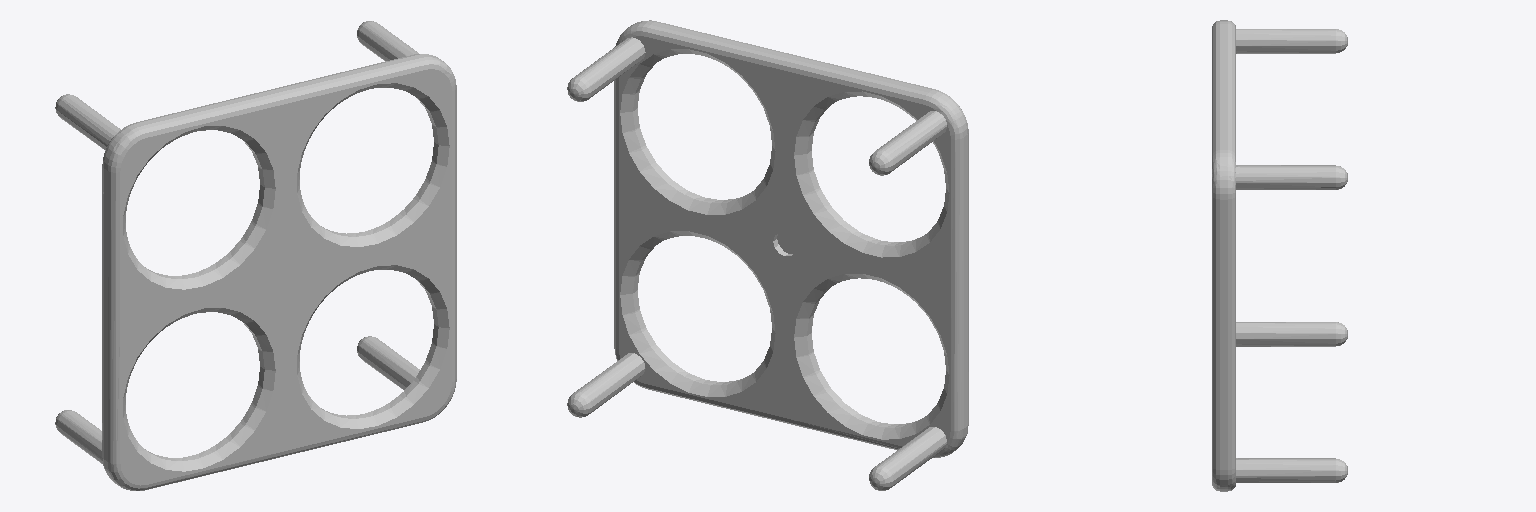
The robot description file, URDF, robot "flat_drone":
<?xml version="1.0" encoding="utf-8"?>
<!-- This URDF was automatically created by SolidWorks to URDF Exporter! Originally created by [author] ([email redacted]) 
     Commit Version: 1.6.0-1-g15f4949  Build Version: 1.6.7594.29634
     For more information, please see http://wiki.ros.org/sw_urdf_exporter -->
<robot
  name="flat_drone">
  <link name="dummy_link"></link>
    <joint
      name="dummy_joint"
      type="fixed">
      <origin
        xyz="0 0 0"
        rpy="0 0 0" />
      <parent
        link="dummy_link" />
      <child
        link="chassis" />
    </joint>
  <link
    name="chassis">
    <inertial>
      <origin
        xyz="0.158252280467528 0.18037620453903 0.219588795554135"
        rpy="0 0 0" />
      <mass
        value="0.894063156436566" />
      <inertia
        ixx="0.00864147938306697"
        ixy="-2.12588363777296E-11"
        ixz="1.45183918634266E-15"
        iyy="0.00864147950443815"
        iyz="1.29740786190204E-15"
        izz="0.0165526190624553" />
    </inertial>
    <visual>
      <origin
        xyz="0 0 0"
        rpy="0 0 0" />
      <geometry>
        <mesh
          filename="package://flat_drone/meshes/chassis.STL" />
      </geometry>
      <material
        name="">
        <color
          rgba="0.8 0.8 0.8 1" />
      </material>
    </visual>
    <collision>
      <origin
        xyz="0 0 0"
        rpy="0 0 0" />
      <geometry>
        <mesh
          filename="package://flat_drone/meshes/chassis.STL" />
      </geometry>
    </collision>
  </link>
  <!-- <link
    name="arm_link_1">
    <inertial>
      <origin
        xyz="-6.99440505513849E-15 0.0268207413750808 -3.26717541909716E-11"
        rpy="0 0 0" />
      <mass
        value="0.0160008840887284" />
      <inertia
        ixx="3.78350929688554E-06"
        ixy="-6.50188471623441E-19"
        ixz="-7.45032627632284E-17"
        iyy="9.62878633502828E-07"
        iyz="-8.3992364225598E-15"
        izz="3.77371898445663E-06" />
    </inertial>
    <visual>
      <origin
        xyz="0 0 0"
        rpy="0 0 0" />
      <geometry>
        <mesh
          filename="package://flat_drone/meshes/arm_link_1.STL" />
      </geometry>
      <material
        name="">
        <color
          rgba="0.627450980392157 0.627450980392157 0.627450980392157 1" />
      </material>
    </visual>
    <collision>
      <origin
        xyz="0 0 0"
        rpy="0 0 0" />
      <geometry>
        <mesh
          filename="package://flat_drone/meshes/arm_link_1.STL" />
      </geometry>
    </collision>
  </link>
  <joint
    name="arm_joint_1"
    type="continuous">
    <origin
      xyz="0.15825 -0.17599 0.18038"
      rpy="3.1416 1.5664 0" />
    <parent
      link="chassis" />
    <child
      link="arm_link_1" />
    <axis
      xyz="0 1 0" />
    <limit
      effort="0"
      velocity="0.5" />
  </joint>
  <link
    name="arm_link_2">
    <inertial>
      <origin
        xyz="-3.59027252372357E-11 0.0171389611810903 -1.14747905621826E-10"
        rpy="0 0 0" />
      <mass
        value="0.015412817224867" />
      <inertia
        ixx="1.2375317566286E-06"
        ixy="3.46534000873733E-16"
        ixz="-1.74141739909133E-21"
        iyy="1.39129115753313E-06"
        iyz="1.0991710872083E-15"
        izz="1.86451368903514E-06" />
    </inertial>
    <visual>
      <origin
        xyz="0 0 0"
        rpy="0 0 0" />
      <geometry>
        <mesh
          filename="package://flat_drone/meshes/arm_link_2.STL" />
      </geometry>
      <material
        name="">
        <color
          rgba="0.627450980392157 0.627450980392157 0.627450980392157 1" />
      </material>
    </visual>
    <collision>
      <origin
        xyz="0 0 0"
        rpy="0 0 0" />
      <geometry>
        <mesh
          filename="package://flat_drone/meshes/arm_link_2.STL" />
      </geometry>
    </collision>
  </link>
  <joint
    name="arm_joint_2"
    type="revolute">
    <origin
      xyz="0 0.01 0"
      rpy="-1.5736 0 0" />
    <parent
      link="arm_link_1" />
    <child
      link="arm_link_2" />
    <axis
      xyz="1 0 0" />
    <limit
      lower="0"
      upper="1.5"
      effort="0"
      velocity="0.5" />
  </joint>
  <link
    name="arm_link_3">
    <inertial>
      <origin
        xyz="3.91389698428668E-12 -5.65264501872775E-12 -0.00892515663531421"
        rpy="0 0 0" />
      <mass
        value="0.00403734356698192" />
      <inertia
        ixx="2.40149499776059E-07"
        ixy="-5.71014668062969E-15"
        ixz="1.98441808633002E-16"
        iyy="2.88957535111524E-07"
        iyz="-3.5682395783805E-16"
        izz="3.10565959249786E-07" />
    </inertial>
    <visual>
      <origin
        xyz="0 0 0"
        rpy="0 0 0" />
      <geometry>
        <mesh
          filename="package://flat_drone/meshes/arm_link_3.STL" />
      </geometry>
      <material
        name="">
        <color
          rgba="0.8 0.8 0.8 1" />
      </material>
    </visual>
    <collision>
      <origin
        xyz="0 0 0"
        rpy="0 0 0" />
      <geometry>
        <mesh
          filename="package://flat_drone/meshes/arm_link_3.STL" />
      </geometry>
    </collision>
  </link>
  <joint
    name="arm_joint_3"
    type="continuous">
    <origin
      xyz="0 0.034893 0"
      rpy="-1.5708 -0.0066035 3.1416" />
    <parent
      link="arm_link_2" />
    <child
      link="arm_link_3" />
    <axis
      xyz="0 0 1" />
    <limit
      effort="0"
      velocity="0.5" />
  </joint>
  <link
    name="left_finger_link">
    <inertial>
      <origin
        xyz="0.00161872235886423 0.0187141743932989 -1.02999999926356E-06"
        rpy="0 0 0" />
      <mass
        value="0.00261369562305155" />
      <inertia
        ixx="3.64435595797179E-07"
        ixy="8.26652357401406E-09"
        ixz="-3.37076099615359E-23"
        iyy="3.68591080594806E-08"
        iyz="-2.68510581652955E-24"
        izz="3.64980509944123E-07" />
    </inertial>
    <visual>
      <origin
        xyz="0 0 0"
        rpy="0 0 0" />
      <geometry>
        <mesh
          filename="package://flat_drone/meshes/left_finger_link.STL" />
      </geometry>
      <material
        name="">
        <color
          rgba="0.8 0.8 0.8 1" />
      </material>
    </visual>
    <collision>
      <origin
        xyz="0 0 0"
        rpy="0 0 0" />
      <geometry>
        <mesh
          filename="package://flat_drone/meshes/left_finger_link.STL" />
      </geometry>
    </collision>
  </link>
  <joint
    name="left_finger_joint"
    type="revolute">
    <origin
      xyz="0.0073611 0 -0.016236"
      rpy="-1.5708 0.011968 0" />
    <parent
      link="arm_link_3" />
    <child
      link="left_finger_link" />
    <axis
      xyz="0 0 1" />
    <limit
      lower="-1.5"
      upper="0"
      effort="0"
      velocity="0.5" />
  </joint>
  <link
    name="right_finger_link">
    <inertial>
      <origin
        xyz="0.00161872235886465 0.0187141743932994 1.0299999989305E-06"
        rpy="0 0 0" />
      <mass
        value="0.00261369562305155" />
      <inertia
        ixx="3.64435595797179E-07"
        ixy="8.26652357401405E-09"
        ixz="-3.49483808803654E-23"
        iyy="3.68591080594805E-08"
        iyz="4.47453012602903E-22"
        izz="3.64980509944123E-07" />
    </inertial>
    <visual>
      <origin
        xyz="0 0 0"
        rpy="0 0 0" />
      <geometry>
        <mesh
          filename="package://flat_drone/meshes/right_finger_link.STL" />
      </geometry>
      <material
        name="">
        <color
          rgba="0.8 0.8 0.8 1" />
      </material>
    </visual>
    <collision>
      <origin
        xyz="0 0 0"
        rpy="0 0 0" />
      <geometry>
        <mesh
          filename="package://flat_drone/meshes/right_finger_link.STL" />
      </geometry>
    </collision>
  </link>
  <joint
    name="right_finger_joint"
    type="revolute">
    <origin
      xyz="-0.0073611 0 -0.016236"
      rpy="-1.5708 0.0081524 -3.1416" />
    <parent
      link="arm_link_3" />
    <child
      link="right_finger_link" />
    <axis
      xyz="0 0 1" />
    <limit
      lower="0"
      upper="1.5"
      effort="0"
      velocity="0.5" />
    <mimic
      joint="left_finger_joint"
      multiplier="-1"
      offset="0" />
  </joint> -->
<!-- 
  <transmission name="arm_body_trans">
    <type>transmission_interface/SimpleTransmission</type>
      <joint name="arm_joint_1">
    <hardwareInterface>hardware_interface/VelocityJointInterface</hardwareInterface>
      </joint>
    <actuator name="arm_body_servo">
      <mechanicalReduction>20</mechanicalReduction>
    </actuator>
  </transmission>

  <transmission name="arm_mid_trans">
    <type>transmission_interface/SimpleTransmission</type>
      <joint name="arm_joint_2">
    <hardwareInterface>hardware_interface/VelocityJointInterface</hardwareInterface>
      </joint>
    <actuator name="arm_body_servo">
      <mechanicalReduction>20</mechanicalReduction>
    </actuator>
  </transmission>

  <transmission name="arm_end_trans">
    <type>transmission_interface/SimpleTransmission</type>
      <joint name="arm_joint_3">
    <hardwareInterface>hardware_interface/VelocityJointInterface</hardwareInterface>
      </joint>
    <actuator name="arm_end_servo">
      <mechanicalReduction>20</mechanicalReduction>
    </actuator>
  </transmission>

  <transmission name="right_finger_trans">
    <type>transmission_interface/SimpleTransmission</type>
      <joint name="right_finger_joint">
    <hardwareInterface>hardware_interface/VelocityJointInterface</hardwareInterface>
      </joint>
    <actuator name="right_finger_servo">
      <mechanicalReduction>20</mechanicalReduction>
    </actuator>
  </transmission>

  <transmission name="left_finger_trans">
    <type>transmission_interface/SimpleTransmission</type>
      <joint name="left_finger_joint">
    <hardwareInterface>hardware_interface/VelocityJointInterface</hardwareInterface>
      </joint>
    <actuator name="left_finger_servo">
      <mechanicalReduction>20</mechanicalReduction>
    </actuator>
  </transmission> -->
</robot>

--- Facts derived from the render (not from the file) ---
The picture shows the robot from 3 angles, left to right: view 1: azimuth 30°, elevation 25°; view 2: azimuth 150°, elevation 25°; view 3: azimuth 270°, elevation 25°; orthographic projection.
Model flat_drone with 2 links and 1 joints (1 fixed), rooted at dummy_link, posed every joint at zero.
Visible links, largest first — view 1: chassis; view 2: chassis; view 3: chassis.
Boxes of the visible links, <box> form: chassis: <box>55,21,456,490</box>; chassis: <box>567,20,968,490</box>; chassis: <box>1212,20,1347,491</box>.
Size in the robot's own frame: 0.3 by 0.11 by 0.3 metres.
1 mesh visuals loaded from 1 distinct referenced files (1 binary STL).